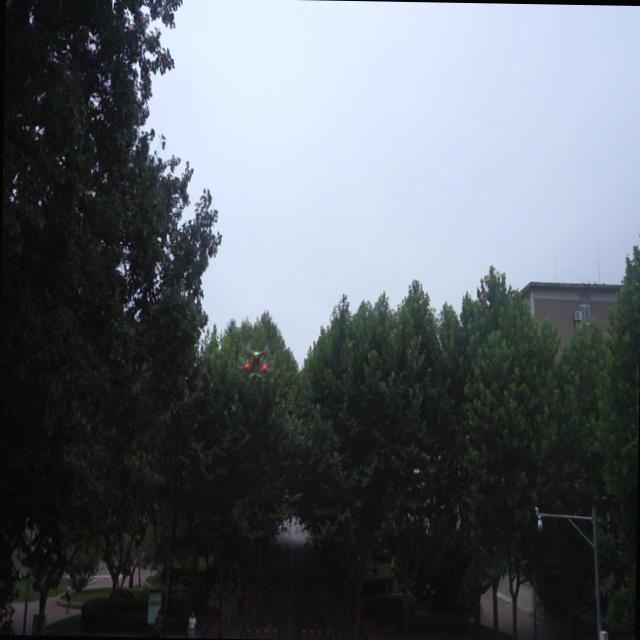drone: (240, 342, 274, 382)
